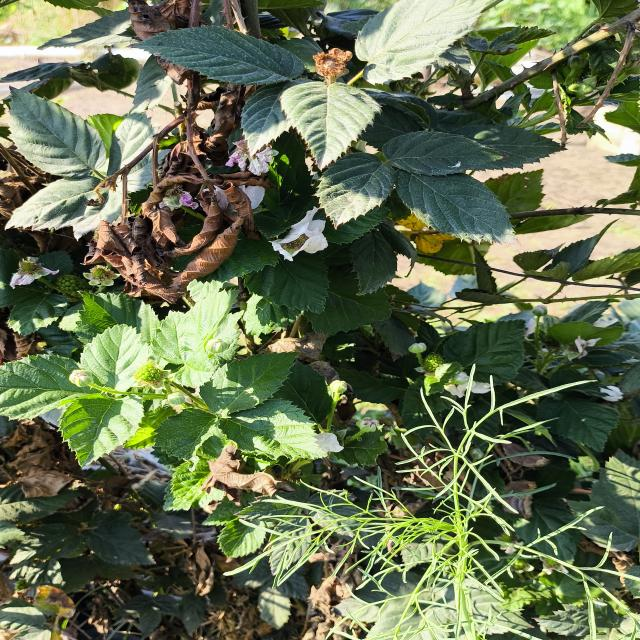boton: (204, 339, 228, 358), (69, 370, 94, 387), (357, 418, 379, 432), (329, 380, 347, 395), (166, 392, 186, 405), (408, 343, 427, 354)
verde: (133, 361, 168, 386), (423, 352, 446, 371)
